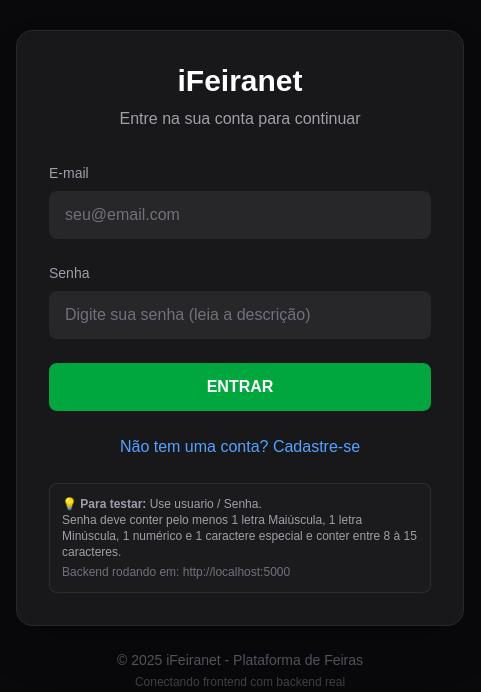
it: Login Component › Test 4: Show vendor-specific fields
What coordinates should you click on to do the following:
click the button "Não tem uma conta? Cadastre-se"
I would click on:
 (240, 447)
Its box is [120,435,360,459].
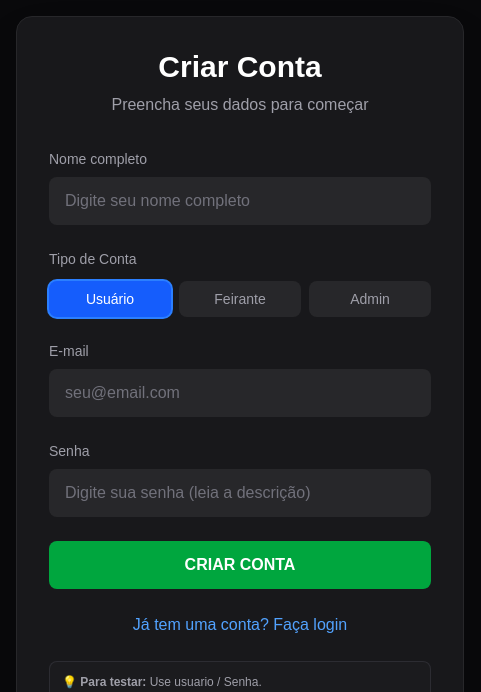
What coordinates should you click on to do the following:
click the button "Feirante"
I would click on:
 (240, 299)
Its box is [179,281,301,317].
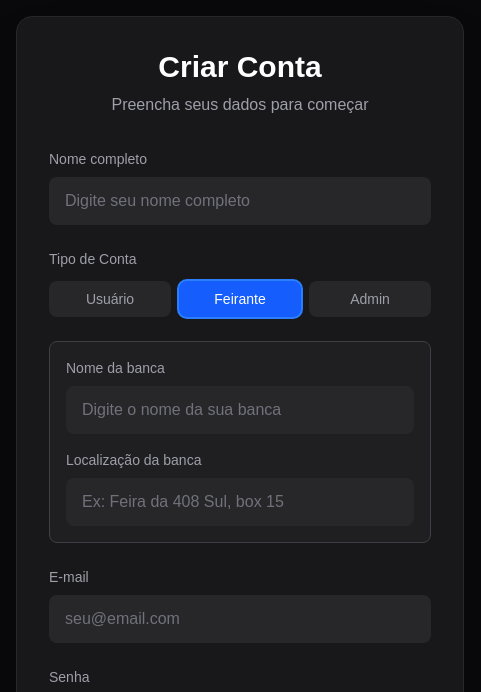
Expected: the field with placeholder "Digite o nome da sua banca" is shown, [66,386,414,434]
Expected: the field with placeholder "Ex: Feira da 408 Sul, box 15" is shown, [66,478,414,526]
